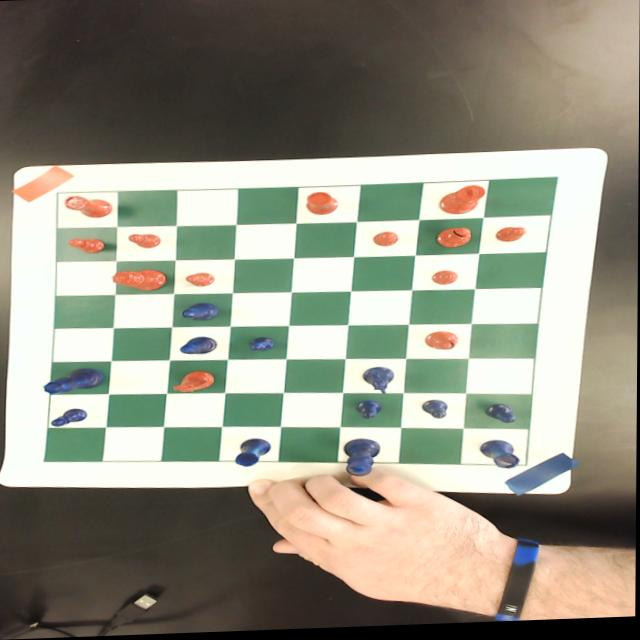B: (181, 302, 219, 323), (180, 337, 219, 356)
K: (343, 440, 381, 478)
N: (361, 369, 395, 397)
P: (483, 406, 519, 427), (51, 408, 89, 427), (355, 401, 383, 422), (421, 401, 449, 422), (248, 337, 276, 353)
Q: (43, 367, 105, 395)
R: (480, 442, 520, 472), (236, 439, 271, 468)
b: (437, 229, 475, 250), (425, 333, 459, 353)
k: (438, 187, 486, 217)
n: (173, 371, 217, 394)
p: (68, 237, 106, 254), (493, 229, 528, 246), (128, 233, 162, 249), (185, 273, 215, 288), (431, 272, 459, 288), (372, 233, 400, 249)
q: (112, 269, 167, 292)
r: (63, 194, 113, 220), (306, 191, 340, 218)
